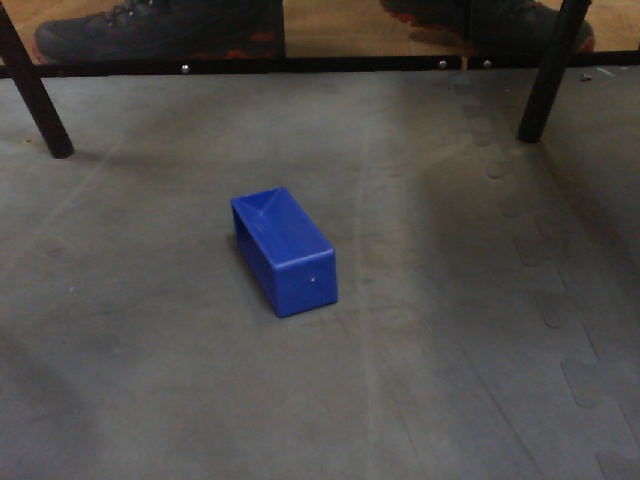BlueSample: (226, 185, 341, 321)
